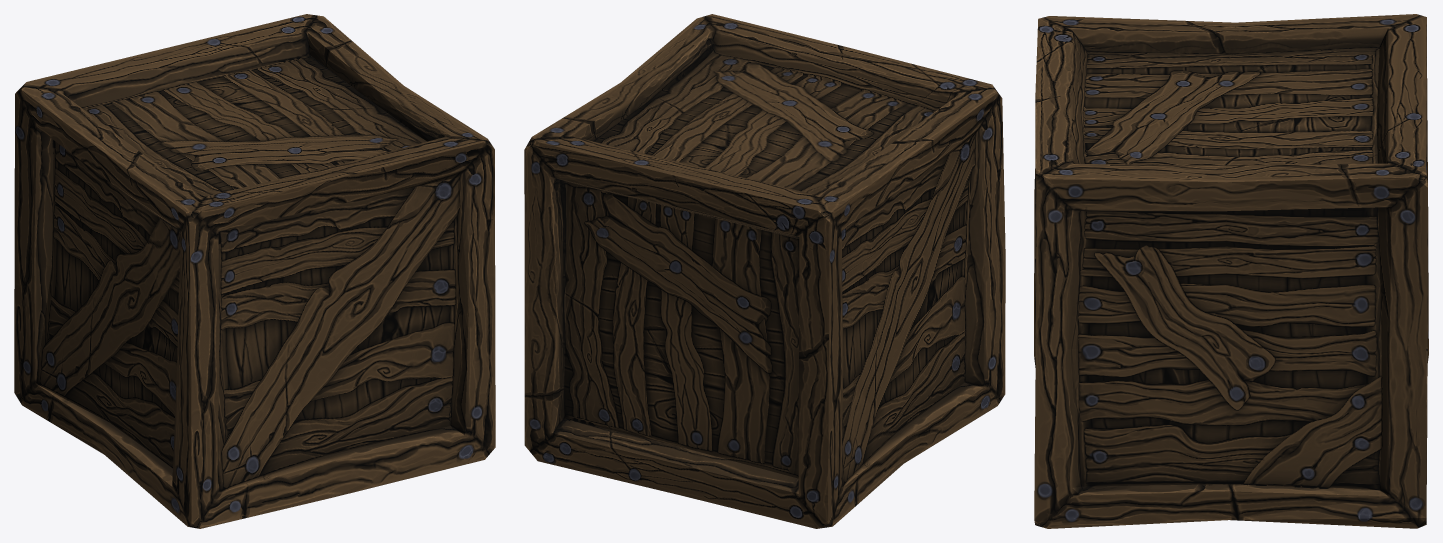
File: Wood Crate 1.obj
3 renders of one model, left to right at view 1: azimuth 30°, elevation 25°; view 2: azimuth 150°, elevation 25°; view 3: azimuth 270°, elevation 25°, orthographic. The views are drawn at different scales.
Parts seen in each view (by area): view 1: Object.1; view 2: Object.1; view 3: Object.1.
Boxes of the visible parts, x1,y1,x2,y2 form: Object.1: (14, 14, 495, 528); Object.1: (524, 14, 1005, 528); Object.1: (1034, 14, 1428, 528).
Size of the model in its own units: 1020 by 1020 by 1027.
1 material, 1 textured.
